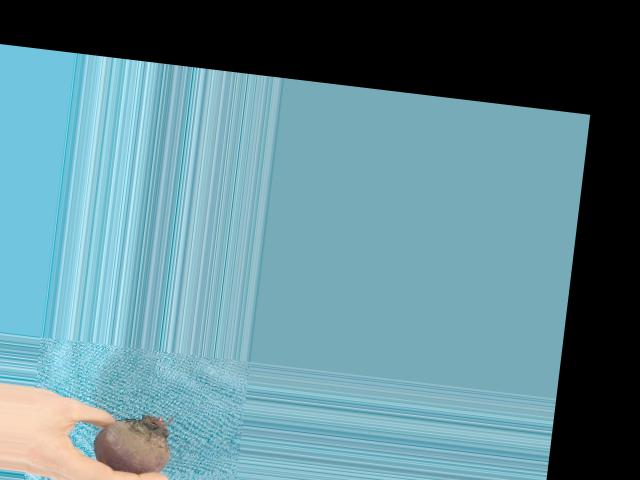beet: (92, 407, 174, 476)
